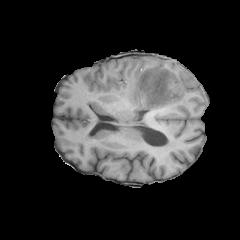glioma: (117, 56, 192, 112)
